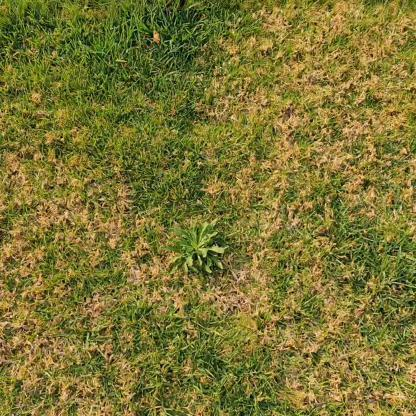Weeds: (164, 219, 227, 276)
